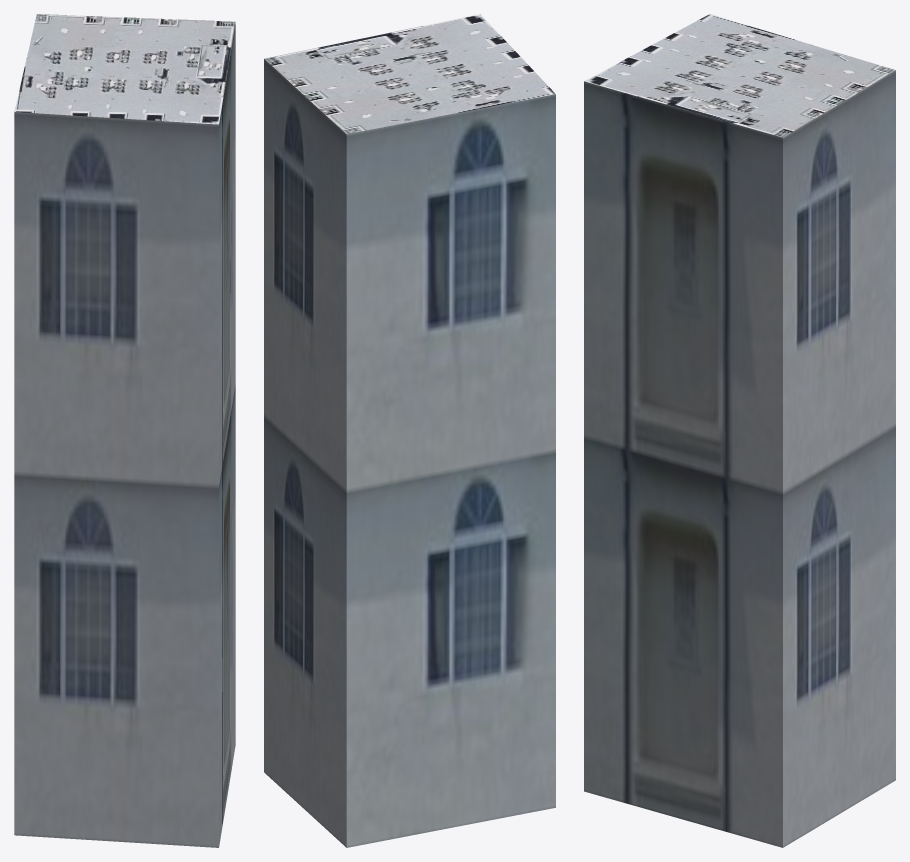
Rendered from ResTex__1897.fbx.
3 renders of one model, left to right at view 1: azimuth 30°, elevation 25°; view 2: azimuth 150°, elevation 25°; view 3: azimuth 270°, elevation 25°, orthographic.
Visible parts, largest first — view 1: CityEngineMaterial_17_m, CityEngineMaterial_8_m; view 2: CityEngineMaterial_17_m, CityEngineMaterial_8_m; view 3: CityEngineMaterial_17_m, CityEngineMaterial_8_m.
Part boxes in pixels (<box>): CityEngineMaterial_17_m: <box>14,23,235,847</box>; CityEngineMaterial_8_m: <box>14,14,235,124</box>; CityEngineMaterial_17_m: <box>264,59,555,847</box>; CityEngineMaterial_8_m: <box>264,14,555,134</box>; CityEngineMaterial_17_m: <box>584,70,895,847</box>; CityEngineMaterial_8_m: <box>584,14,895,137</box>.
Bounding box in the file's own units: 2.24 × 6 × 2.39.
Materials: 2 (2 with a texture image).
